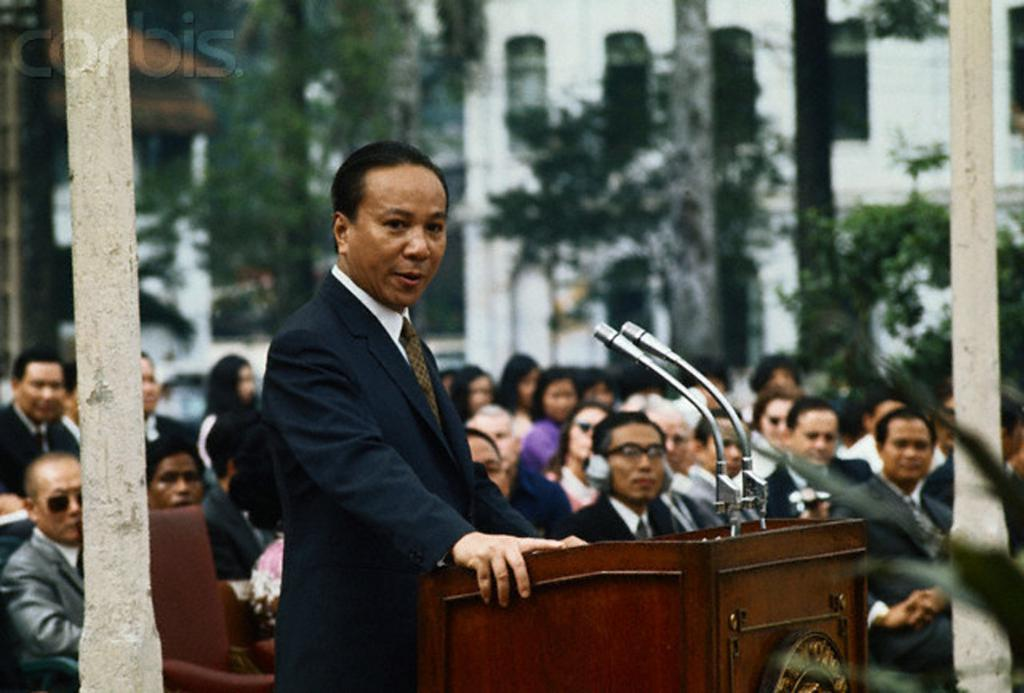Sem Máscara: (444, 362, 1021, 507), (348, 163, 443, 303), (33, 459, 83, 547), (13, 363, 61, 422), (144, 457, 201, 504), (138, 354, 158, 411), (234, 360, 254, 400)
